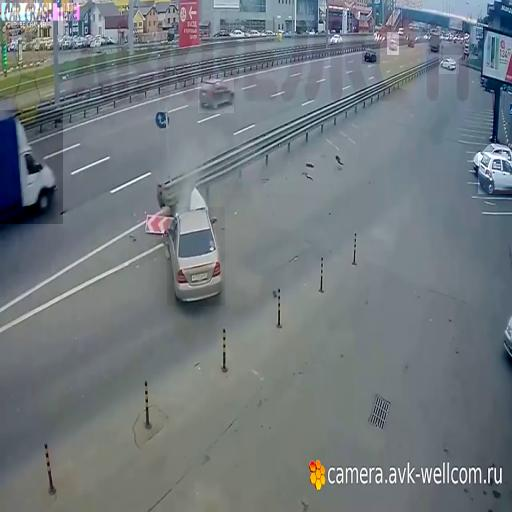小汽车: (0, 110, 63, 224), (167, 207, 225, 306), (478, 152, 512, 194), (198, 77, 234, 113), (439, 55, 459, 74), (362, 44, 380, 64), (429, 28, 442, 54), (387, 32, 399, 55), (329, 34, 346, 44)
